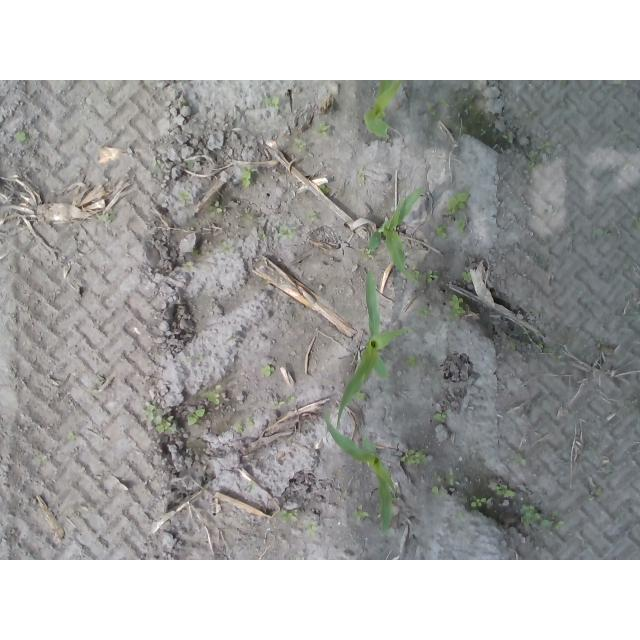Maize: (331, 270, 403, 426), (365, 181, 414, 277), (355, 81, 420, 146)
Weeds: (186, 388, 208, 432)
